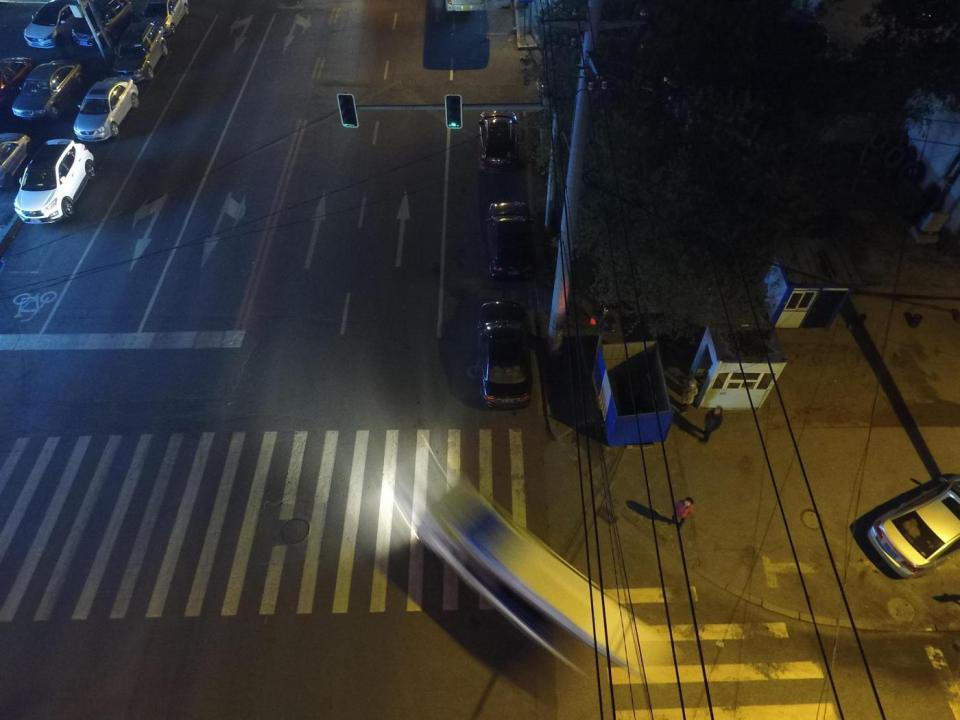bus: (405, 482, 641, 671)
car: (864, 474, 958, 578), (12, 141, 95, 224), (478, 302, 529, 408), (73, 76, 137, 140), (14, 60, 81, 119), (486, 199, 534, 278), (114, 23, 168, 82), (70, 1, 134, 48), (23, 0, 83, 49), (479, 109, 519, 173), (0, 132, 32, 192), (0, 57, 33, 112), (138, 0, 186, 34)
